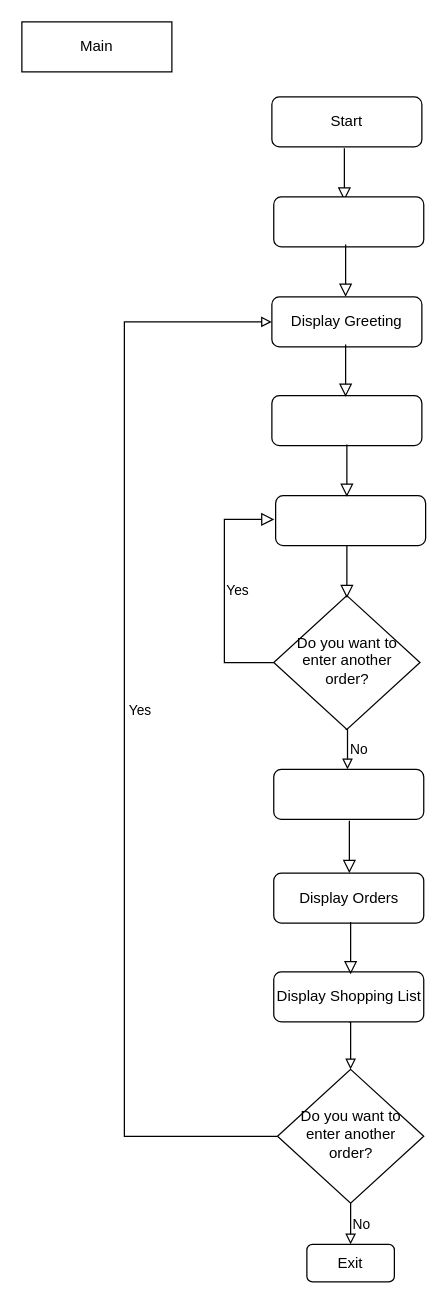
The diagram is 448 pixels wide and 1304 high, and some of its shapes have lost their labels. The centre of each missing label's shape, as x and y in pixels:
"Build recipe list" belongs at pixel 348 221.
"Compile Shopping List" belongs at pixel 348 793.
"Display recipe list" belongs at pixel 346 420.
"Get order" belongs at pixel 350 520.
